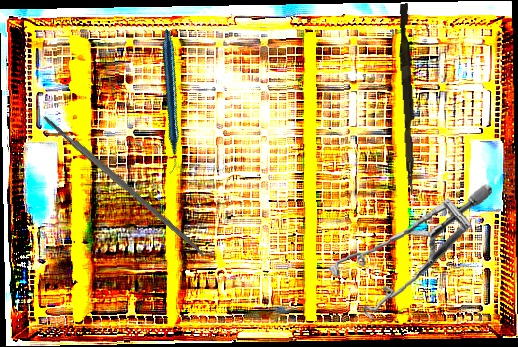Handpiece: (101, 28, 236, 175)
Pusher: (394, 3, 422, 196)
Scalpel Handle: (41, 112, 208, 259)
Speculum: (322, 183, 501, 324)
